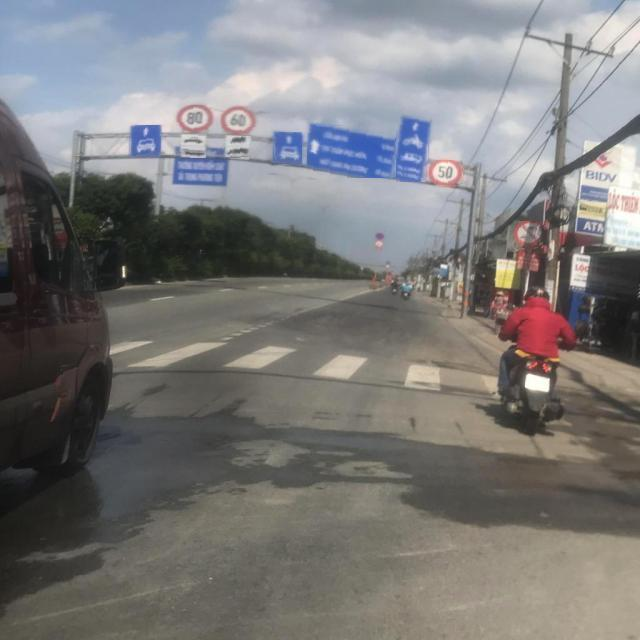127-toc-do-toi-da-50: (428, 159, 462, 187)
127-toc-do-toi-da-60: (221, 106, 256, 135)
127-toc-do-toi-da-80: (174, 104, 214, 132)
